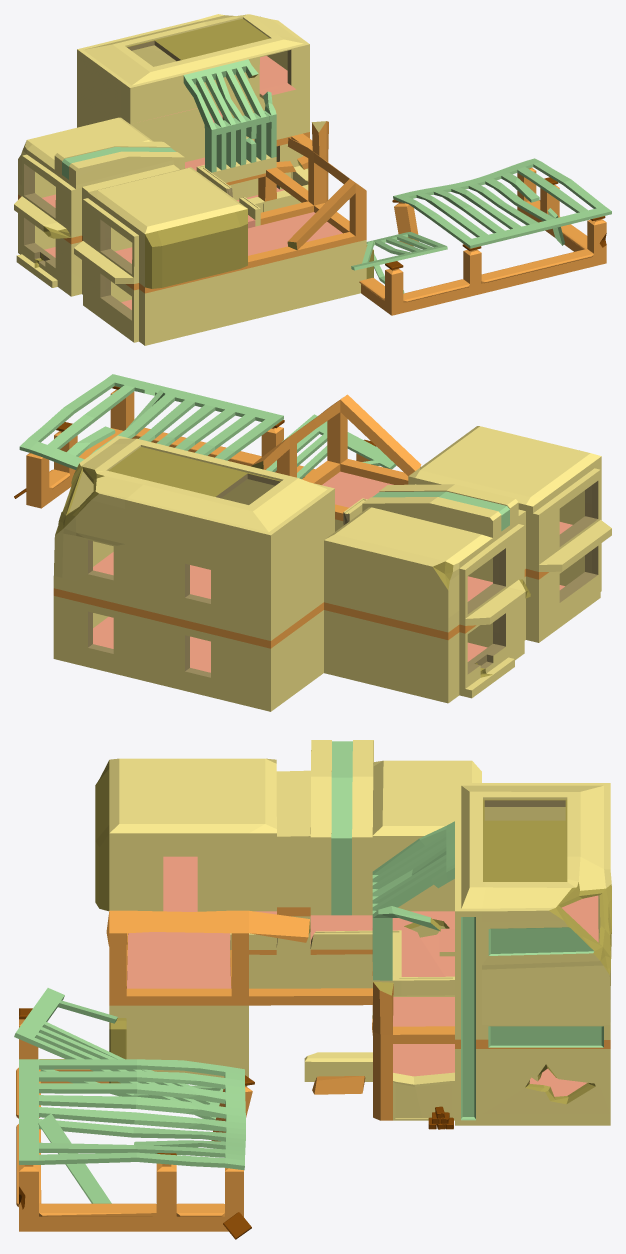
File: Villa 3 CodeName _Wichtig_.fbx
3 views of the same model, one above another, from view 1: azimuth 30°, elevation 25°; view 2: azimuth 150°, elevation 25°; view 3: azimuth 270°, elevation 25° (orthographic). The views are drawn at different scales.
Visible parts, largest first — view 1: Wichtig _LOD0; view 2: Wichtig _LOD0; view 3: Wichtig _LOD0.
Boxes of the visible parts, box(x1,y1,x2,y2) form: Wichtig _LOD0: box(14, 14, 611, 345); Wichtig _LOD0: box(14, 374, 611, 711); Wichtig _LOD0: box(14, 740, 611, 1239).
Size of what is drawn, in the model's own units: 2652 by 834 by 2024.
